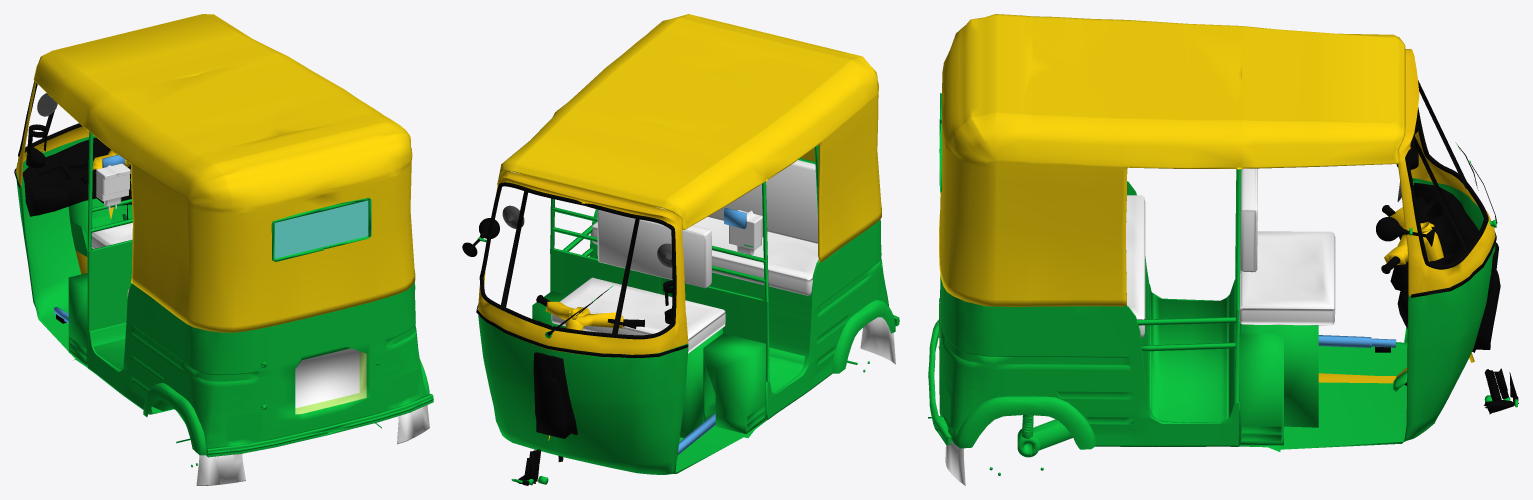
File: tuktuk.glb
3 renders of one model, left to right at view 1: azimuth 30°, elevation 25°; view 2: azimuth 150°, elevation 25°; view 3: azimuth 270°, elevation 25°, orthographic. The views are drawn at different scales.
Visible parts, largest first — view 1: Plane_002; view 2: Plane_002; view 3: Plane_002.
Boxes of the visible parts, x1,y1,x2,y2 form: Plane_002: (14, 14, 433, 485); Plane_002: (462, 14, 899, 485); Plane_002: (928, 14, 1518, 485).
Bounding box in the file's own units: 1.33 × 1.73 × 2.49.
